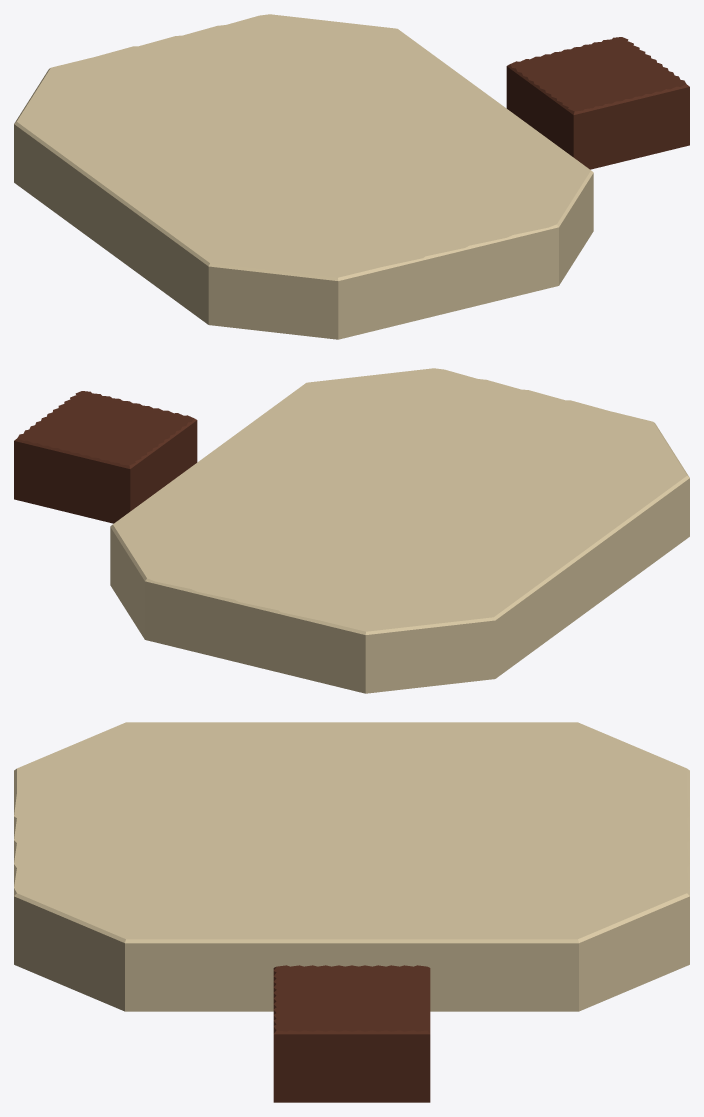
File: mahsulot.glb
The picture shows the model from 3 angles, top to bottom: view 1: azimuth 30°, elevation 25°; view 2: azimuth 150°, elevation 25°; view 3: azimuth 270°, elevation 25°; orthographic projection. The views are drawn at different scales.
Visible parts, largest first — view 1: mahsulot_A, mahsulot_B; view 2: mahsulot_A, mahsulot_B; view 3: mahsulot_A, mahsulot_B.
Boxes of the visible parts, <box> form: mahsulot_A: <box>14,14,593,339</box>; mahsulot_B: <box>506,37,689,169</box>; mahsulot_A: <box>110,368,689,693</box>; mahsulot_B: <box>14,391,197,523</box>; mahsulot_A: <box>14,722,689,1011</box>; mahsulot_B: <box>273,965,430,1102</box>.
Size of the model in its own units: 0.375 by 0.04 by 0.345.
